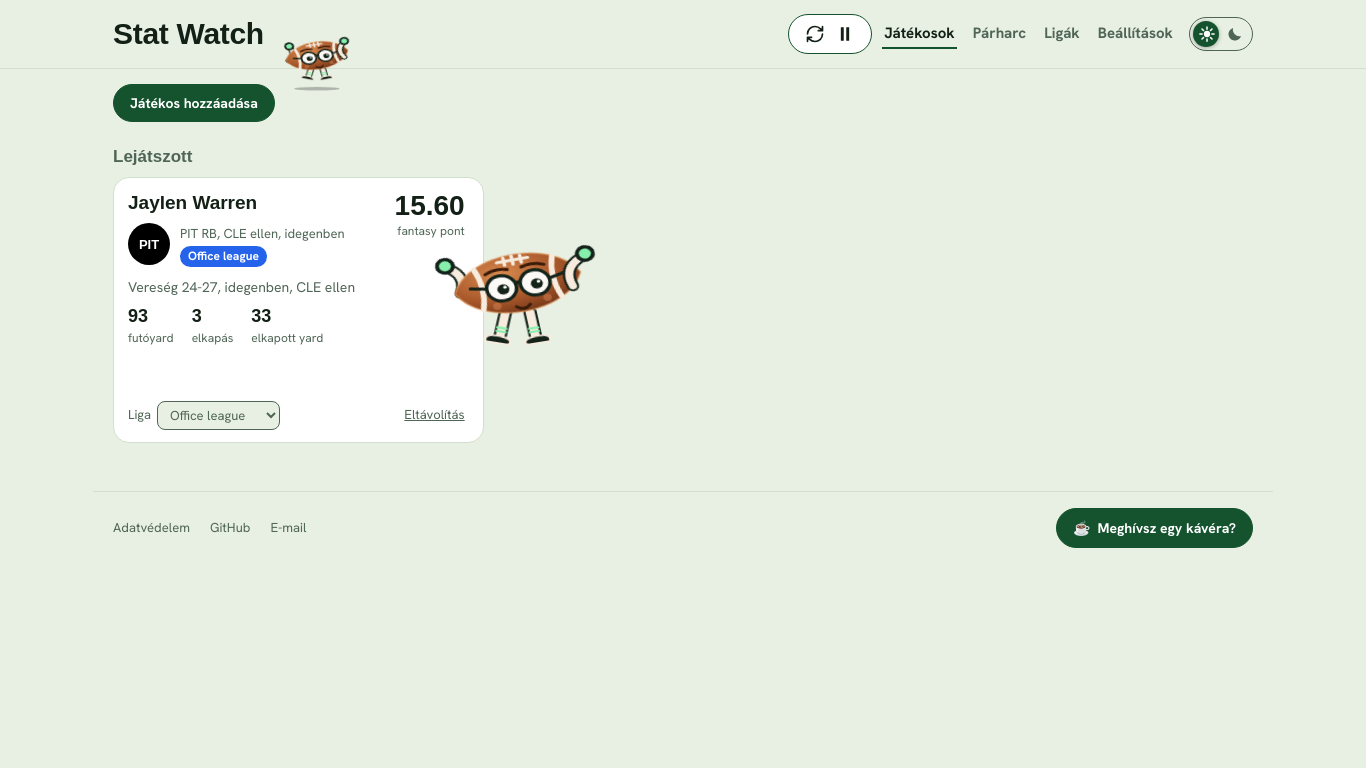
it: Players page in Hungarian › opens the add dialog in Hungarian
This screenshot has width=1366, height=768.
Click the button "Játékos hozzáadása" at x=194, y=103, box [113,84,275,122]
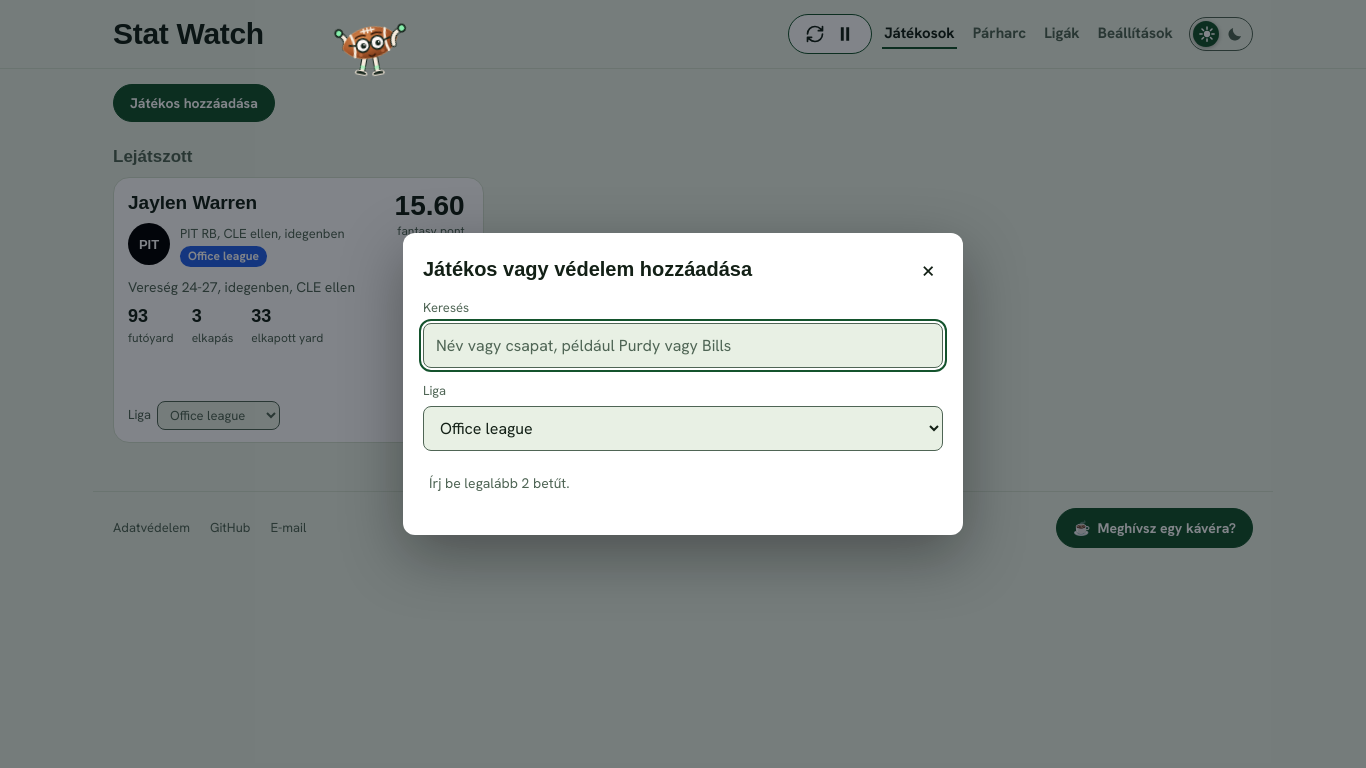
Expected: the heading "Játékos vagy védelem hozzáadása" is shown, [423,257,752,281]
Expected: the text "Írj be legalább 2 betűt." is shown, [429,474,570,492]
Expected: the button named "Bezárás" is shown, [914,253,943,285]
